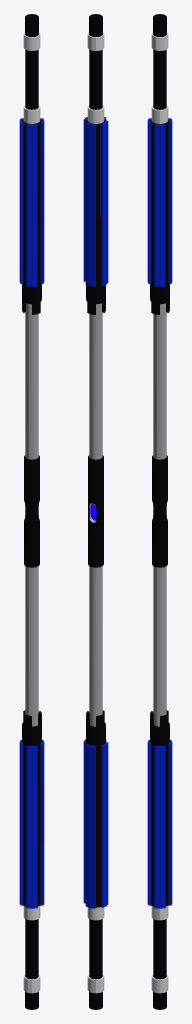
File: ProtoJundo.fbx
The picture shows the model from 3 angles, left to right: view 1: azimuth 90°, elevation 25°; view 2: azimuth 150°, elevation 25°; view 3: azimuth 270°, elevation 25°; orthographic projection.
Parts seen in each view (by area): view 1: ProtoJundo; view 2: ProtoJundo; view 3: ProtoJundo.
Boxes of the visible parts, x1=… form: ProtoJundo: x1=19, y1=14, x2=44, y2=1009; ProtoJundo: x1=83, y1=14, x2=108, y2=1009; ProtoJundo: x1=147, y1=14, x2=172, y2=1009.
Bounding box in the file's own units: 4.22 × 184 × 4.19.
